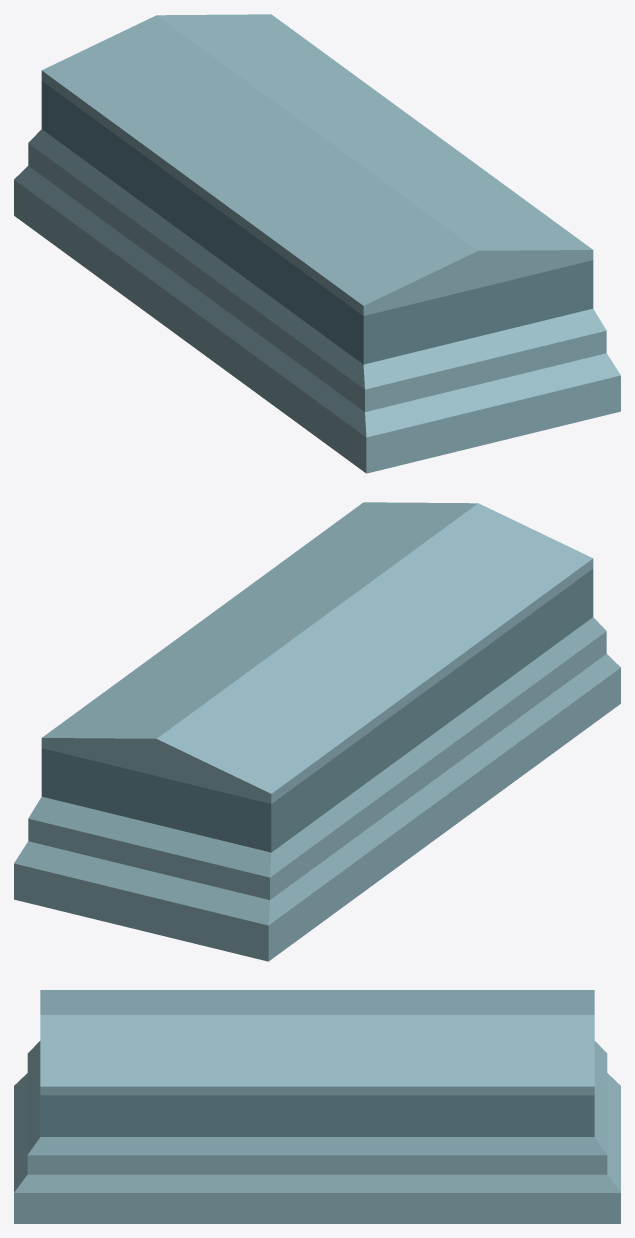
File: gravestoneFlatOpen.obj
3 renders of one model, top to bottom at view 1: azimuth 30°, elevation 25°; view 2: azimuth 150°, elevation 25°; view 3: azimuth 270°, elevation 25°, orthographic. The views are drawn at different scales.
Visible parts, largest first — view 1: gravestoneFlatOpen, lid; view 2: gravestoneFlatOpen, lid; view 3: gravestoneFlatOpen, lid.
Part boxes in pixels (x1,y1,x2,y2): gravestoneFlatOpen: [14, 81, 620, 473]; lid: [41, 14, 593, 315]; gravestoneFlatOpen: [14, 569, 620, 961]; lid: [41, 502, 593, 803]; gravestoneFlatOpen: [14, 1041, 620, 1223]; lid: [40, 990, 594, 1095].
Size of the model in its own units: 0.472 by 0.32 by 1.13.
